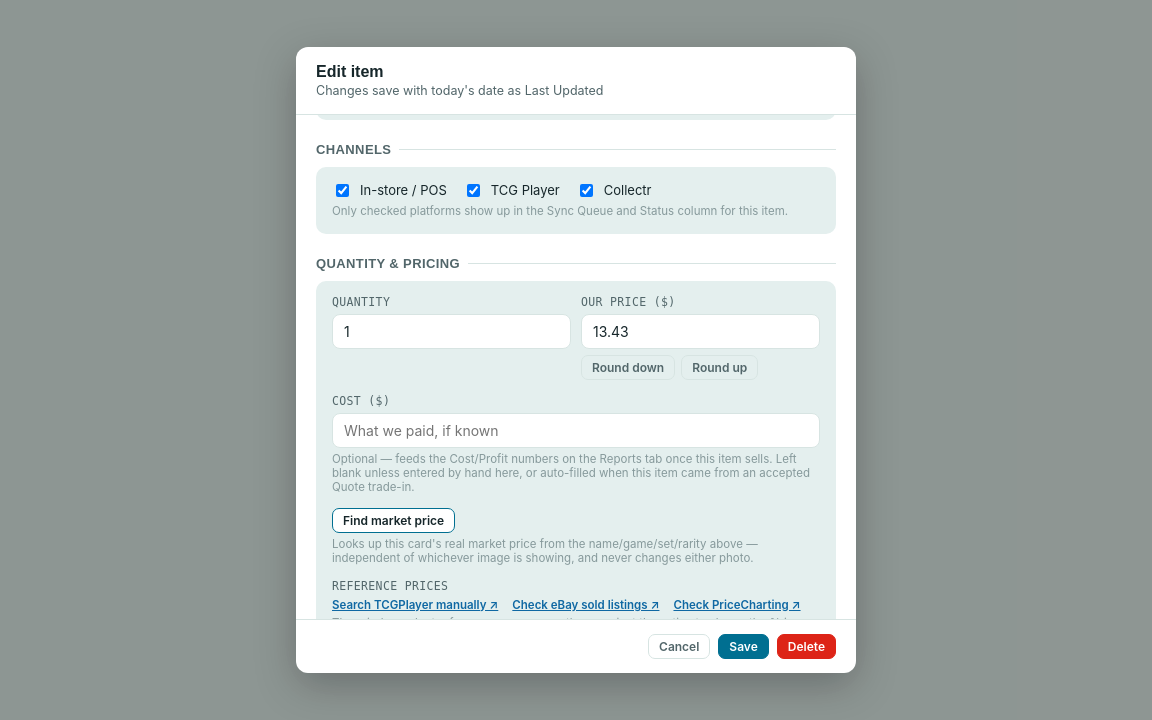
it: EditModal — image candidate selection › rounds Our Price up to the next whole dollar
(page scrolled)
Click the button "Round up": (720, 367) [681,354,758,380]
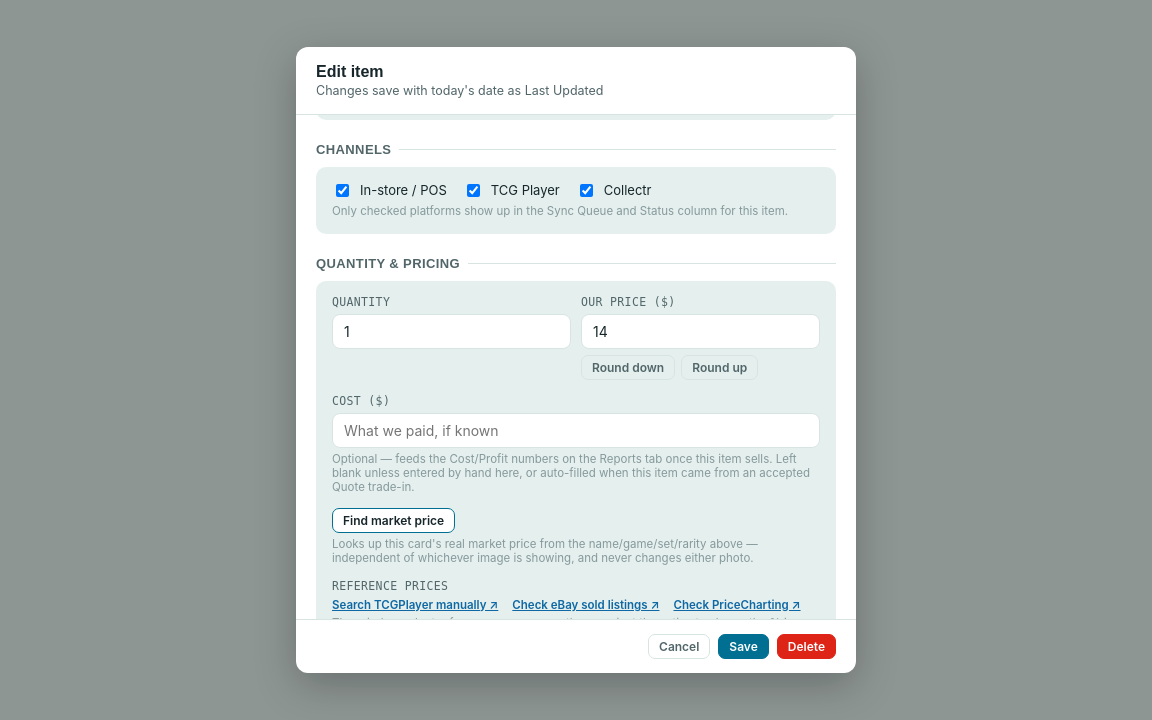
Now the number field showing "13.43" below "Our price ($)" holds "14", box [581,314,820,348]
